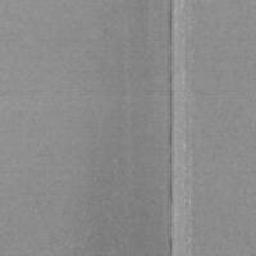Welding line: (165, 0, 174, 256)
